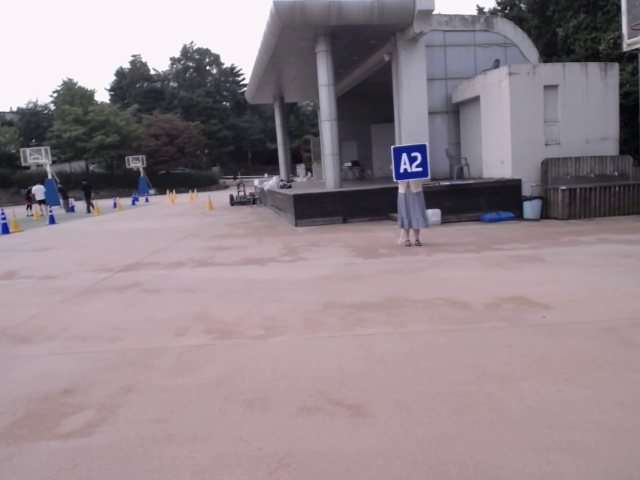delivery_a2: (392, 144, 429, 181)
